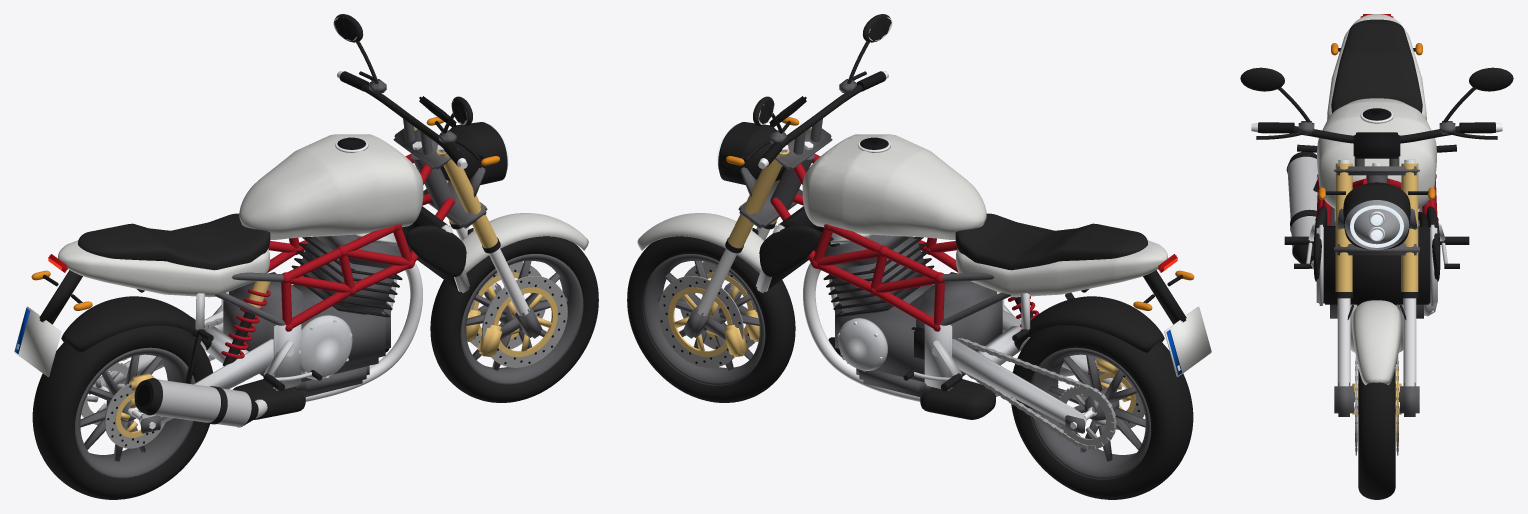
File: moto.glb
3 renders of one model, left to right at view 1: azimuth 30°, elevation 25°; view 2: azimuth 150°, elevation 25°; view 3: azimuth 270°, elevation 25°, orthographic.
Parts seen in each view (by area): view 1: wheel_r, wheel_f, tank, seat, tail, hugger, muffler, fender_f, clutch_cover, crankcase, gearbox, lamp_pod (+20 smaller); view 2: wheel_r, wheel_f, tank, seat, tail, hugger, gearbox, swingarm, crankcase, fender_f, lamp_pod, collector (+20 smaller); view 3: seat, tank, wheel_f, radiator, fender_f, muffler, lamp_lens, fork_outer, fork_outer.001, lamp_pod, dash, fork_inner (+17 smaller).
Boxes of the visible parts, bbox=[...] form: wheel_r: bbox=[32, 325, 212, 499]; wheel_f: bbox=[430, 236, 598, 402]; tank: bbox=[239, 134, 423, 239]; seat: bbox=[78, 213, 270, 270]; tail: bbox=[58, 240, 269, 297]; hugger: bbox=[61, 296, 211, 352]; muffler: bbox=[153, 379, 251, 426]; fender_f: bbox=[462, 213, 588, 273]; clutch_cover: bbox=[300, 315, 352, 379]; crankcase: bbox=[292, 284, 390, 382]; gearbox: bbox=[223, 272, 315, 376]; lamp_pod: bbox=[440, 122, 506, 184]; wheel_r: bbox=[1011, 325, 1193, 499]; wheel_f: bbox=[627, 236, 795, 402]; tank: bbox=[802, 134, 986, 239]; seat: bbox=[955, 213, 1147, 270]; tail: bbox=[956, 240, 1167, 297]; hugger: bbox=[1014, 296, 1164, 352]; gearbox: bbox=[910, 272, 1002, 376]; swingarm: bbox=[952, 339, 1086, 426]; crankcase: bbox=[835, 284, 933, 382]; fender_f: bbox=[637, 213, 763, 273]; lamp_pod: bbox=[719, 122, 785, 184]; collector: bbox=[920, 376, 995, 419]; seat: bbox=[1331, 19, 1422, 113]; tank: bbox=[1317, 98, 1436, 208]; wheel_f: bbox=[1355, 357, 1398, 499]; radiator: bbox=[1323, 226, 1430, 304]; fender_f: bbox=[1352, 300, 1401, 384]; muffler: bbox=[1287, 156, 1317, 248]; lamp_lens: bbox=[1344, 200, 1409, 250]; fork_outer: bbox=[1401, 163, 1418, 291]; fork_outer.001: bbox=[1335, 163, 1352, 291]; lamp_pod: bbox=[1343, 182, 1410, 249]; dash: bbox=[1353, 132, 1400, 158]; fork_inner: bbox=[1403, 298, 1416, 386].
Bounding box in the file's own units: 2.1 × 1.3 × 0.873.
